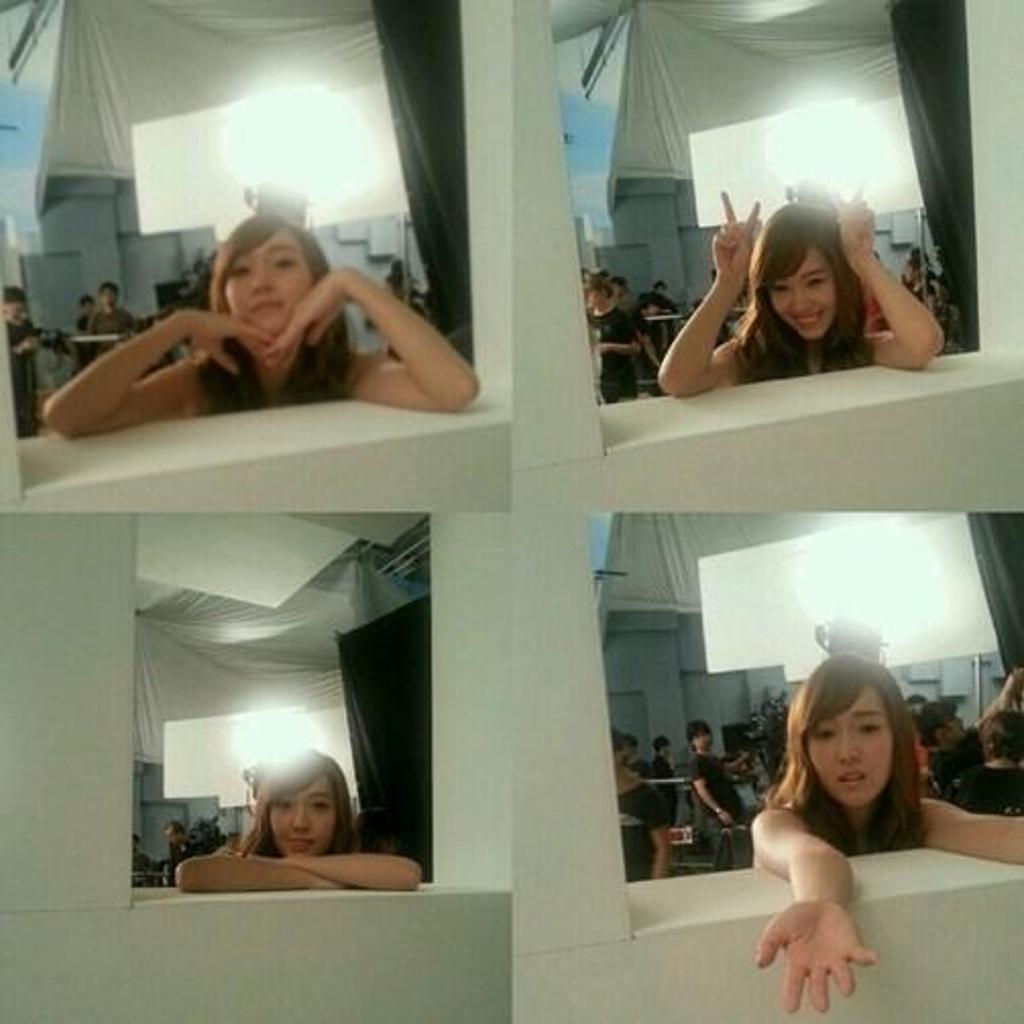face: (806, 695, 895, 806), (222, 243, 313, 338), (767, 256, 837, 338), (269, 782, 335, 861), (936, 712, 965, 742), (589, 284, 606, 308), (693, 728, 711, 748), (6, 298, 22, 316), (905, 263, 917, 282), (100, 289, 114, 304), (165, 828, 179, 843), (624, 741, 636, 755), (660, 744, 669, 756)
